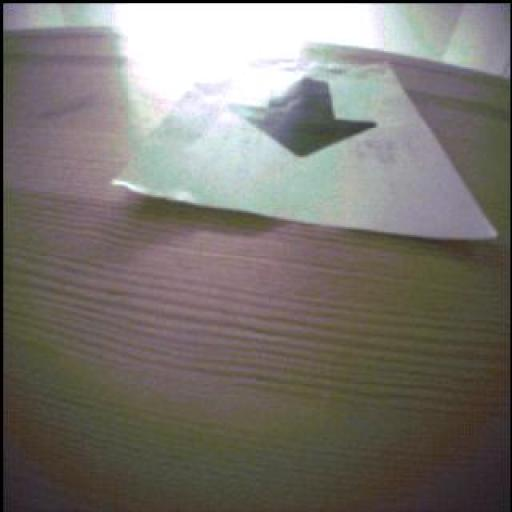Arrow: (231, 78, 377, 158)
